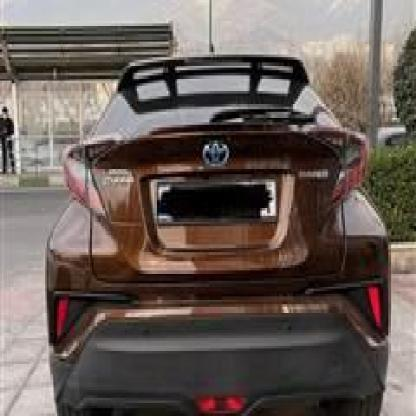Car: (44, 36, 388, 416)
